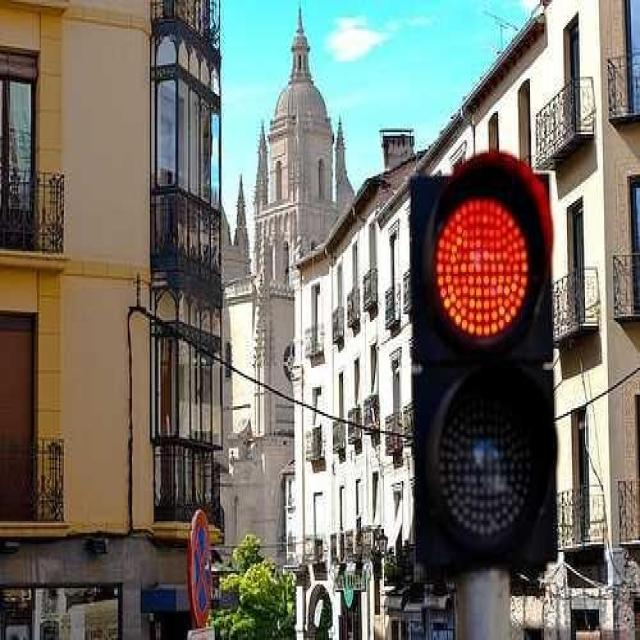Traffic Light -Red-: (408, 154, 559, 574)
